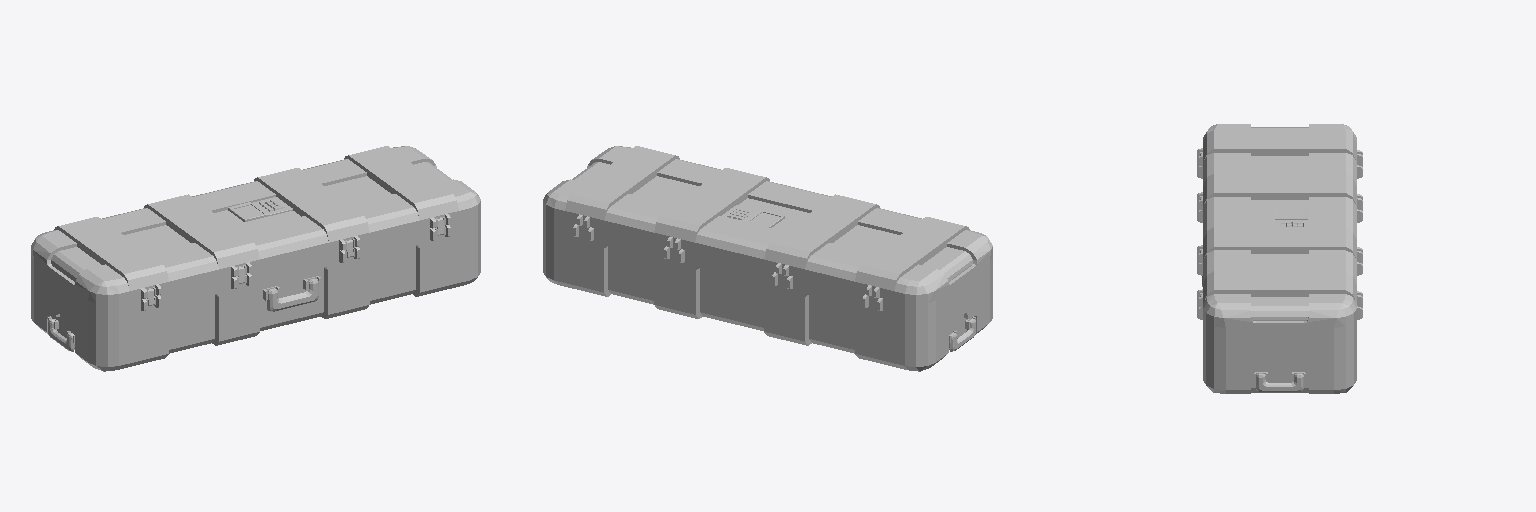
File: rocket.obj
3 renders of one model, left to right at view 1: azimuth 30°, elevation 25°; view 2: azimuth 150°, elevation 25°; view 3: azimuth 270°, elevation 25°, orthographic.
Size of the model in its own units: 1.88 by 0.418 by 0.6798.